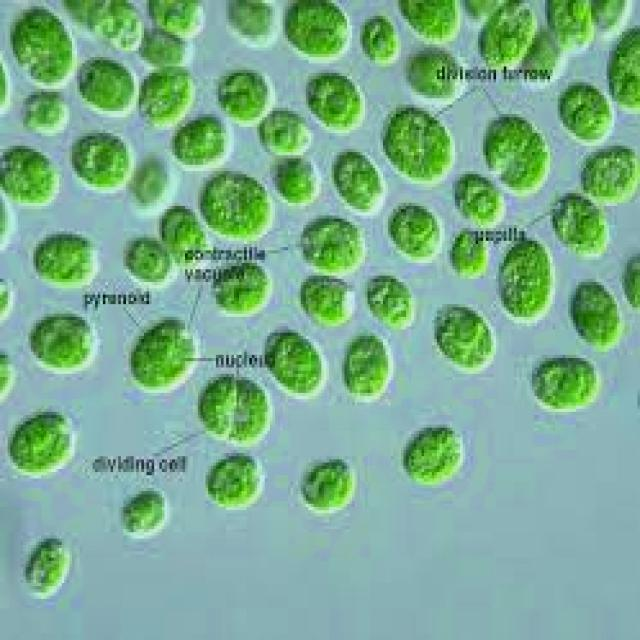Green Algae: (481, 108, 555, 196), (380, 108, 458, 190), (200, 168, 278, 244), (126, 317, 198, 390), (10, 6, 75, 86), (198, 374, 270, 443), (5, 412, 80, 478), (28, 314, 106, 377), (401, 421, 470, 491), (527, 355, 606, 415), (329, 142, 391, 218), (260, 330, 326, 396), (282, 4, 354, 64), (498, 241, 552, 320), (568, 278, 625, 352), (295, 453, 360, 517), (550, 190, 612, 257), (300, 212, 368, 270), (437, 301, 493, 371), (31, 228, 95, 288), (555, 80, 617, 140), (578, 146, 640, 206), (3, 143, 59, 209), (306, 66, 367, 126), (362, 266, 414, 333), (206, 450, 264, 510), (67, 133, 131, 187), (344, 333, 394, 402), (141, 66, 198, 126), (478, 4, 535, 64), (20, 535, 70, 602), (452, 168, 507, 228), (170, 114, 231, 168), (116, 485, 172, 542), (77, 57, 136, 111), (298, 272, 355, 326), (213, 66, 270, 120), (270, 155, 326, 209), (606, 22, 640, 107), (386, 203, 442, 253), (211, 263, 270, 310), (257, 105, 316, 152), (90, 3, 144, 54), (545, 3, 599, 54), (360, 9, 403, 73), (20, 89, 74, 139), (406, 48, 460, 98), (396, 3, 460, 41), (159, 209, 206, 260), (221, 4, 278, 44), (120, 234, 170, 279), (450, 225, 488, 282), (149, 3, 208, 38)
